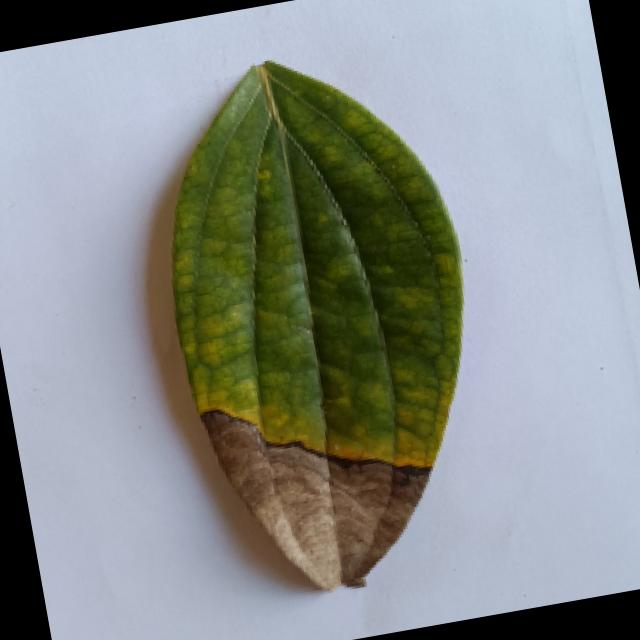footrot: (132, 36, 515, 614)
